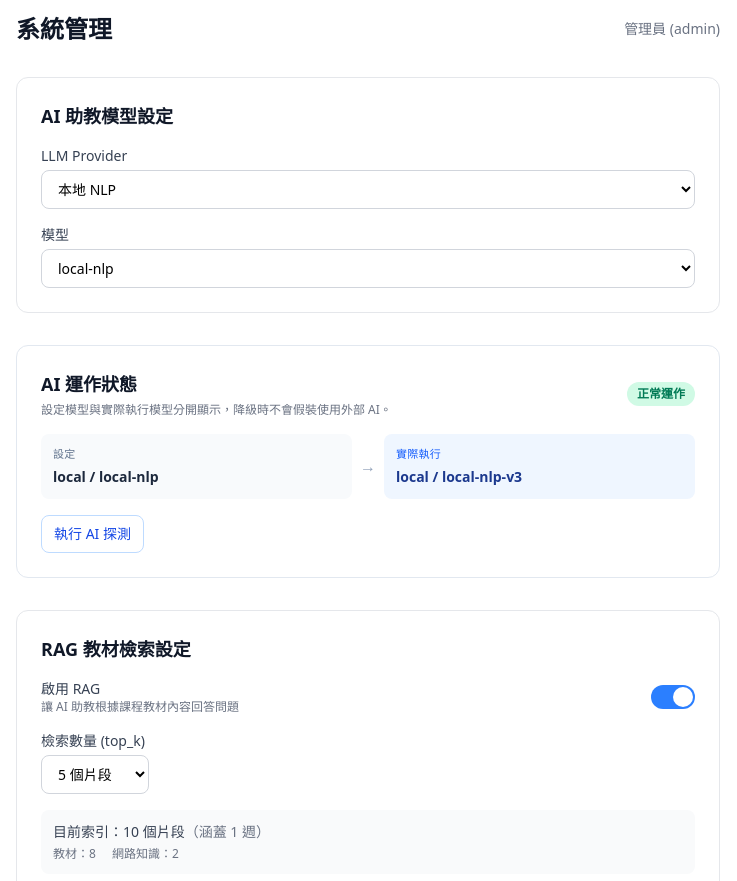
Test: AdminSettings AI diagnostics › keeps the confirmed provider when a save fails
The image size is (737, 881).
Select "OpenAI" in the dropdown below "LLM Provider" at (368, 190), box [41, 170, 695, 209]
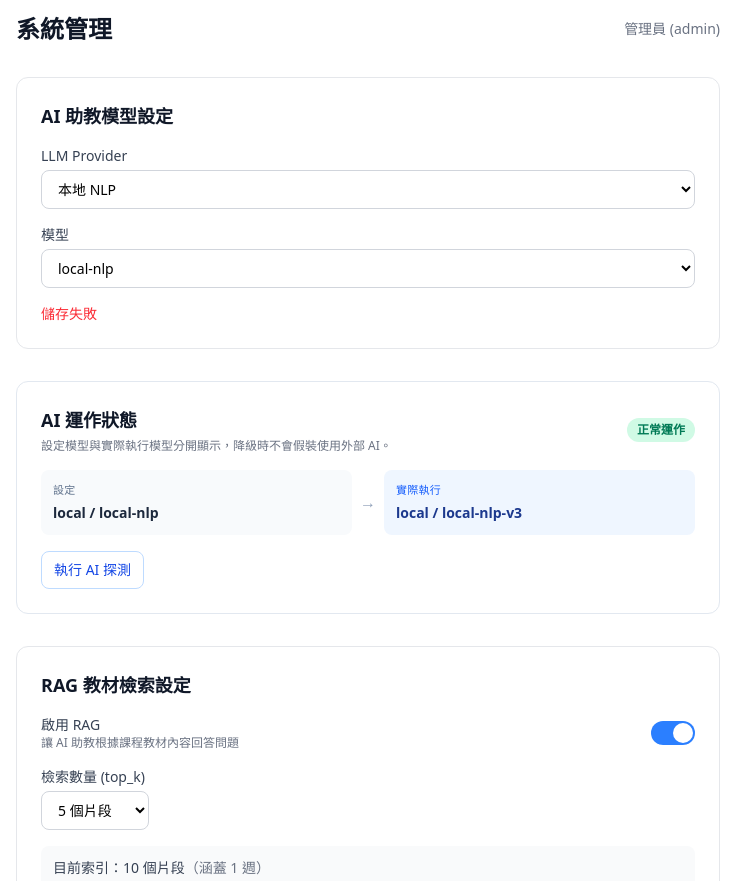
Result: the text "儲存失敗" is shown at [41, 304, 97, 323]
